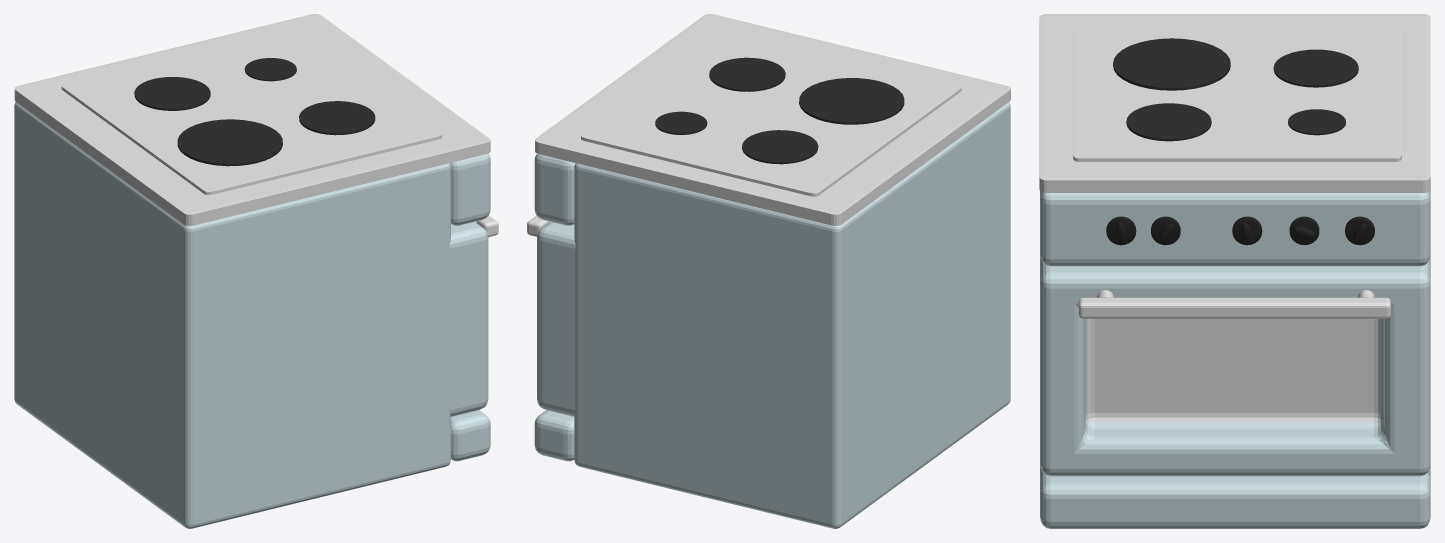
Rendered from oven_1x1.fbx.
3 renders of one model, left to right at view 1: azimuth 30°, elevation 25°; view 2: azimuth 150°, elevation 25°; view 3: azimuth 270°, elevation 25°, orthographic. The views are drawn at different scales.
Parts seen in each view (by area): view 1: fırın, fırın_kapağı; view 2: fırın, fırın_kapağı; view 3: fırın, fırın_kapağı.
Boxes of the visible parts, x1,y1,x2,y2 form: fırın: (14, 14, 490, 528); fırın_kapağı: (449, 215, 498, 416); fırın: (534, 14, 1010, 528); fırın_kapağı: (527, 215, 575, 416); fırın: (1039, 14, 1430, 528); fırın_kapağı: (1040, 260, 1430, 476).
Size of the model in its own units: 107 by 99.45 by 98.08.
